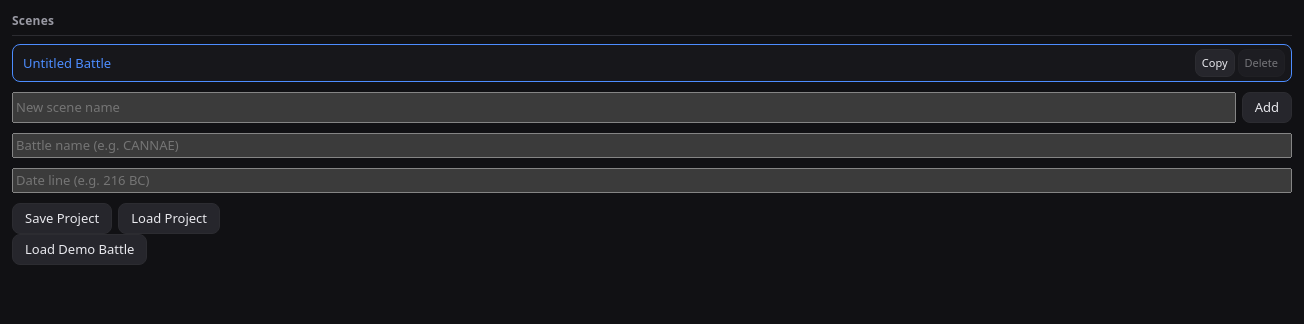
it: ScenesPanel › adds a scene via the UI and switches to it (old scene kept)
This screenshot has width=1304, height=324.
Type "Second Battle" into the field with test id "scene-name-input" at [624, 108], box [12,92,1236,123]
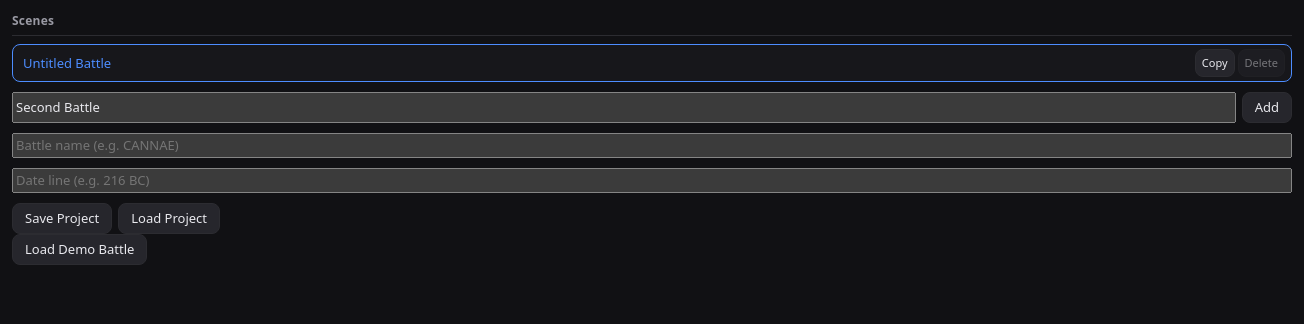
Click the button with test id "scene-add" at [1267, 108], box [1242,92,1292,123]
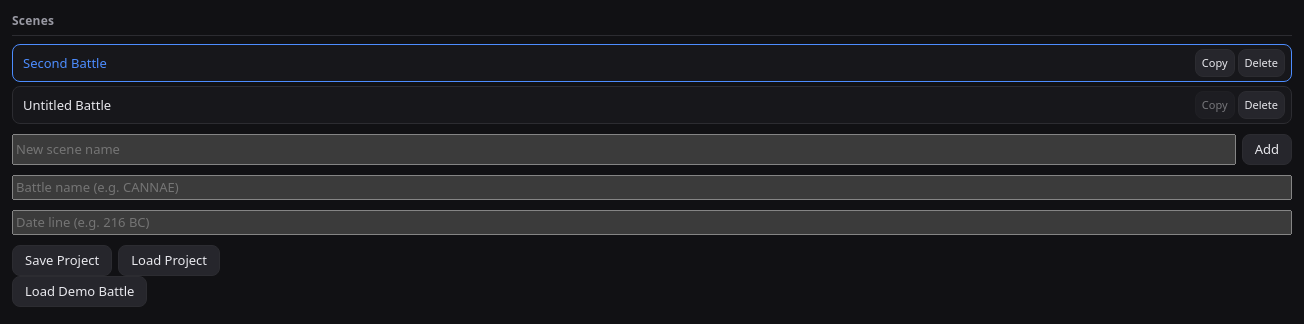
Now the text "Second Battle" is shown, box [23,54,107,72]
